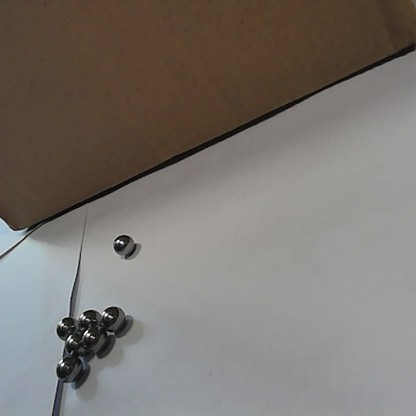ironball: (54, 352, 86, 386), (111, 229, 140, 259), (103, 303, 127, 336), (78, 328, 108, 352), (63, 333, 89, 359), (54, 313, 80, 338), (78, 308, 103, 332)
